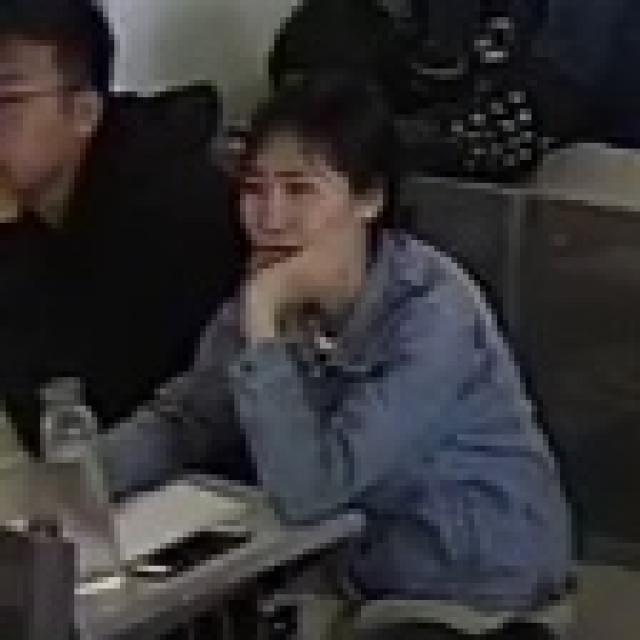listen: (126, 80, 570, 597), (0, 0, 229, 417)
